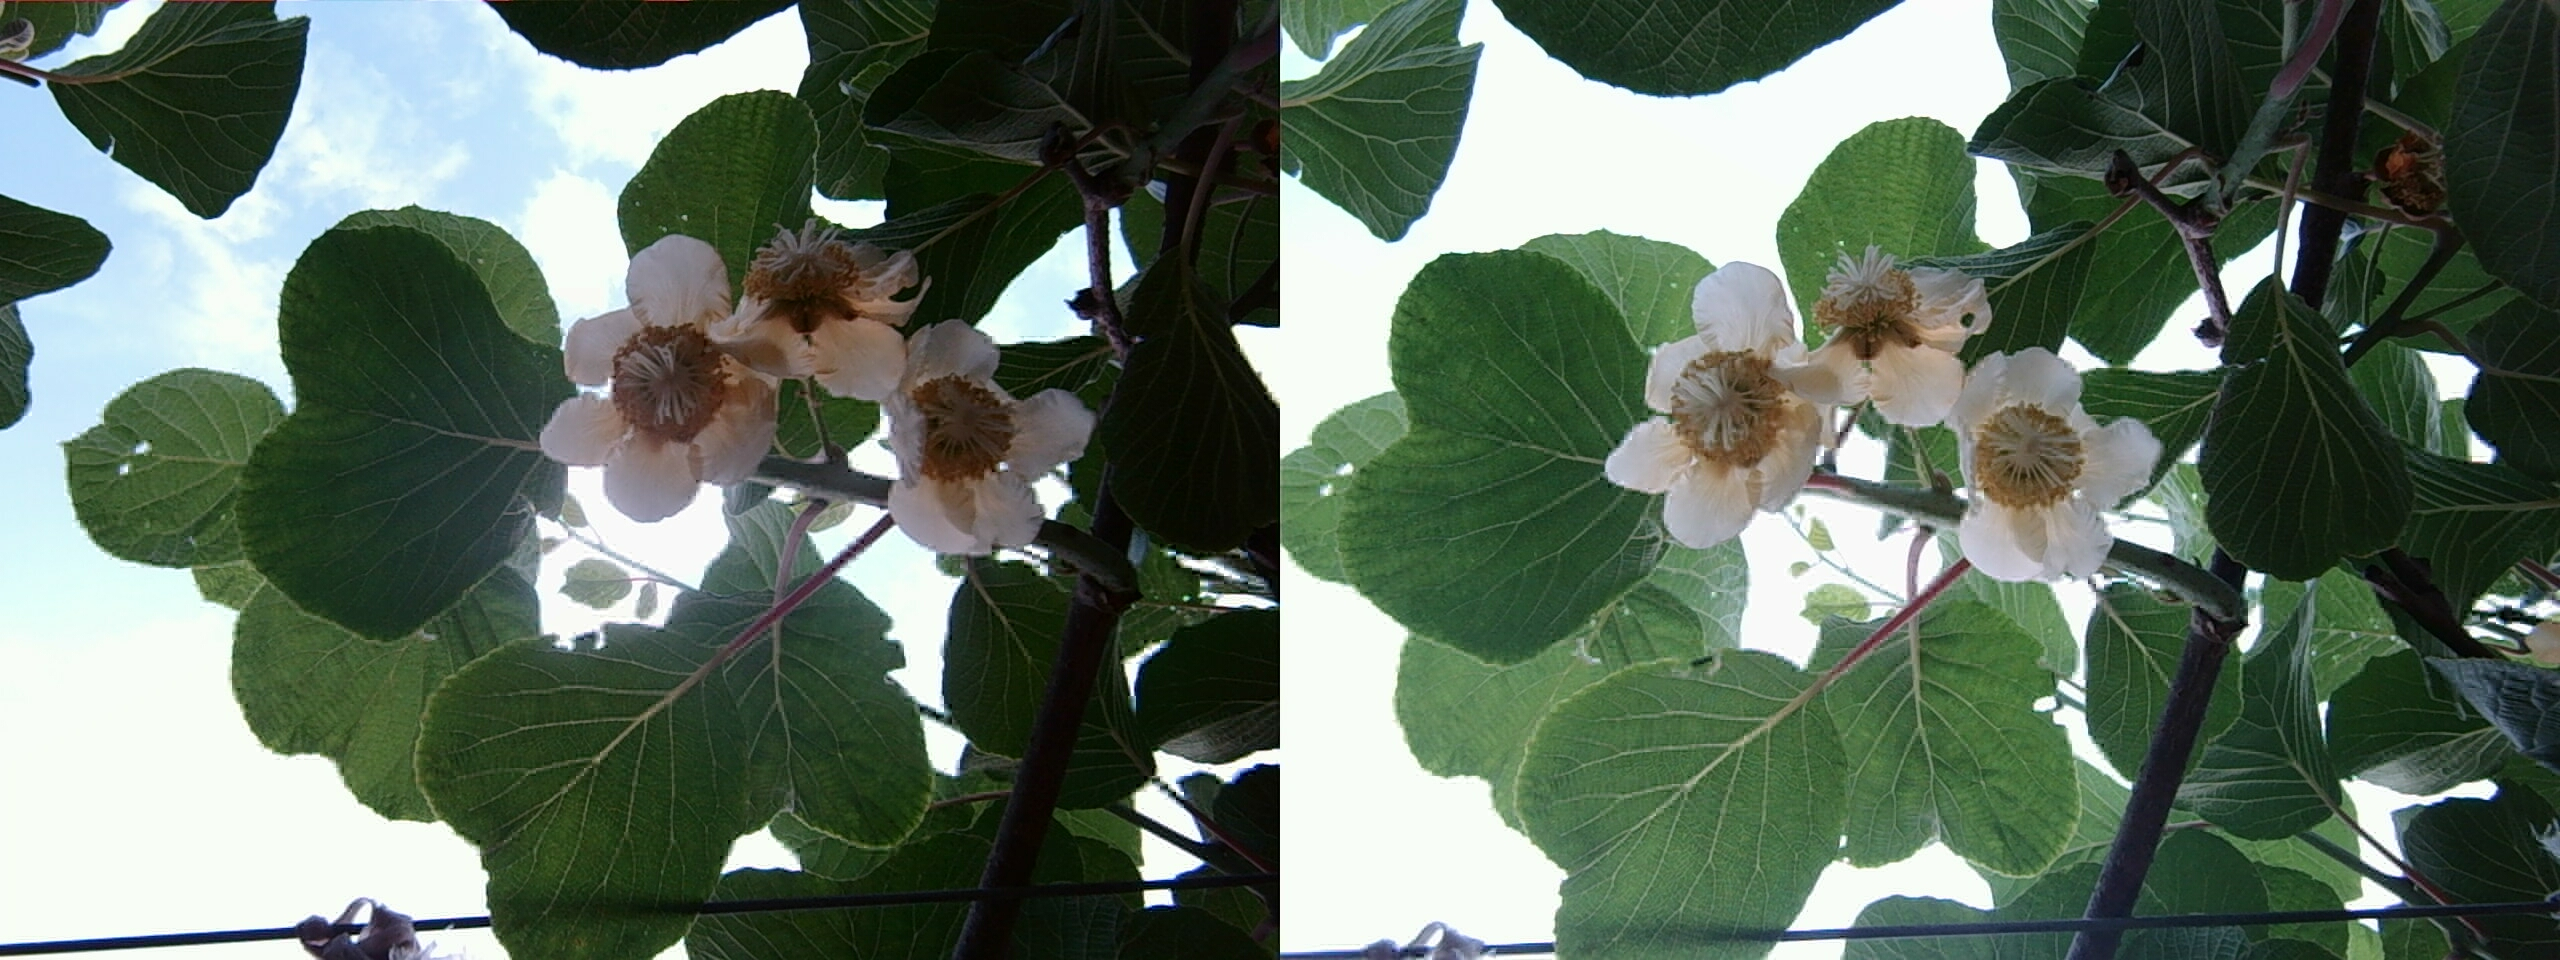flower: (1593, 260, 1840, 545), (539, 237, 787, 518), (842, 317, 1089, 555), (1922, 335, 2158, 576), (1788, 243, 1985, 418), (720, 222, 916, 389)
